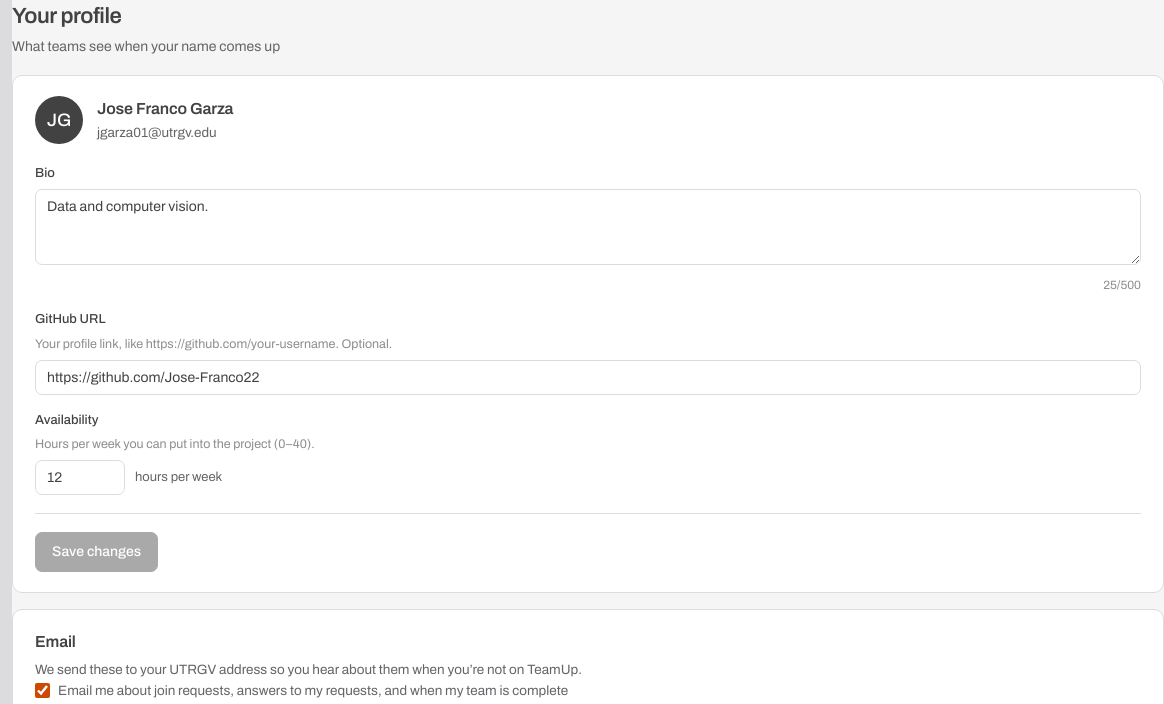
Test: GitHub URL › an invalid link shows an error under that field
Expected: the heading "Your profile" is shown, [12,4,121,28]
Replace the text in the field labelled "GitHub URL" with "gitlab.com/jose" at (588, 377), box [35,360,1141,395]
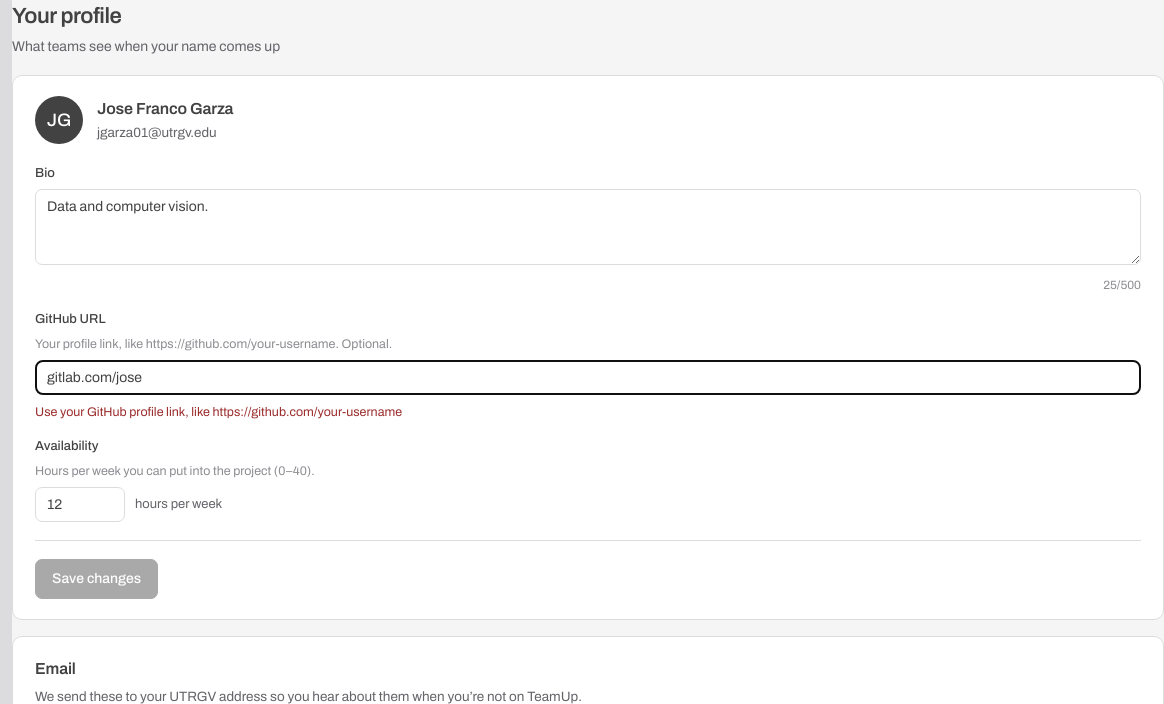
Result: the button "Save changes" is disabled at [35,559,158,599]
